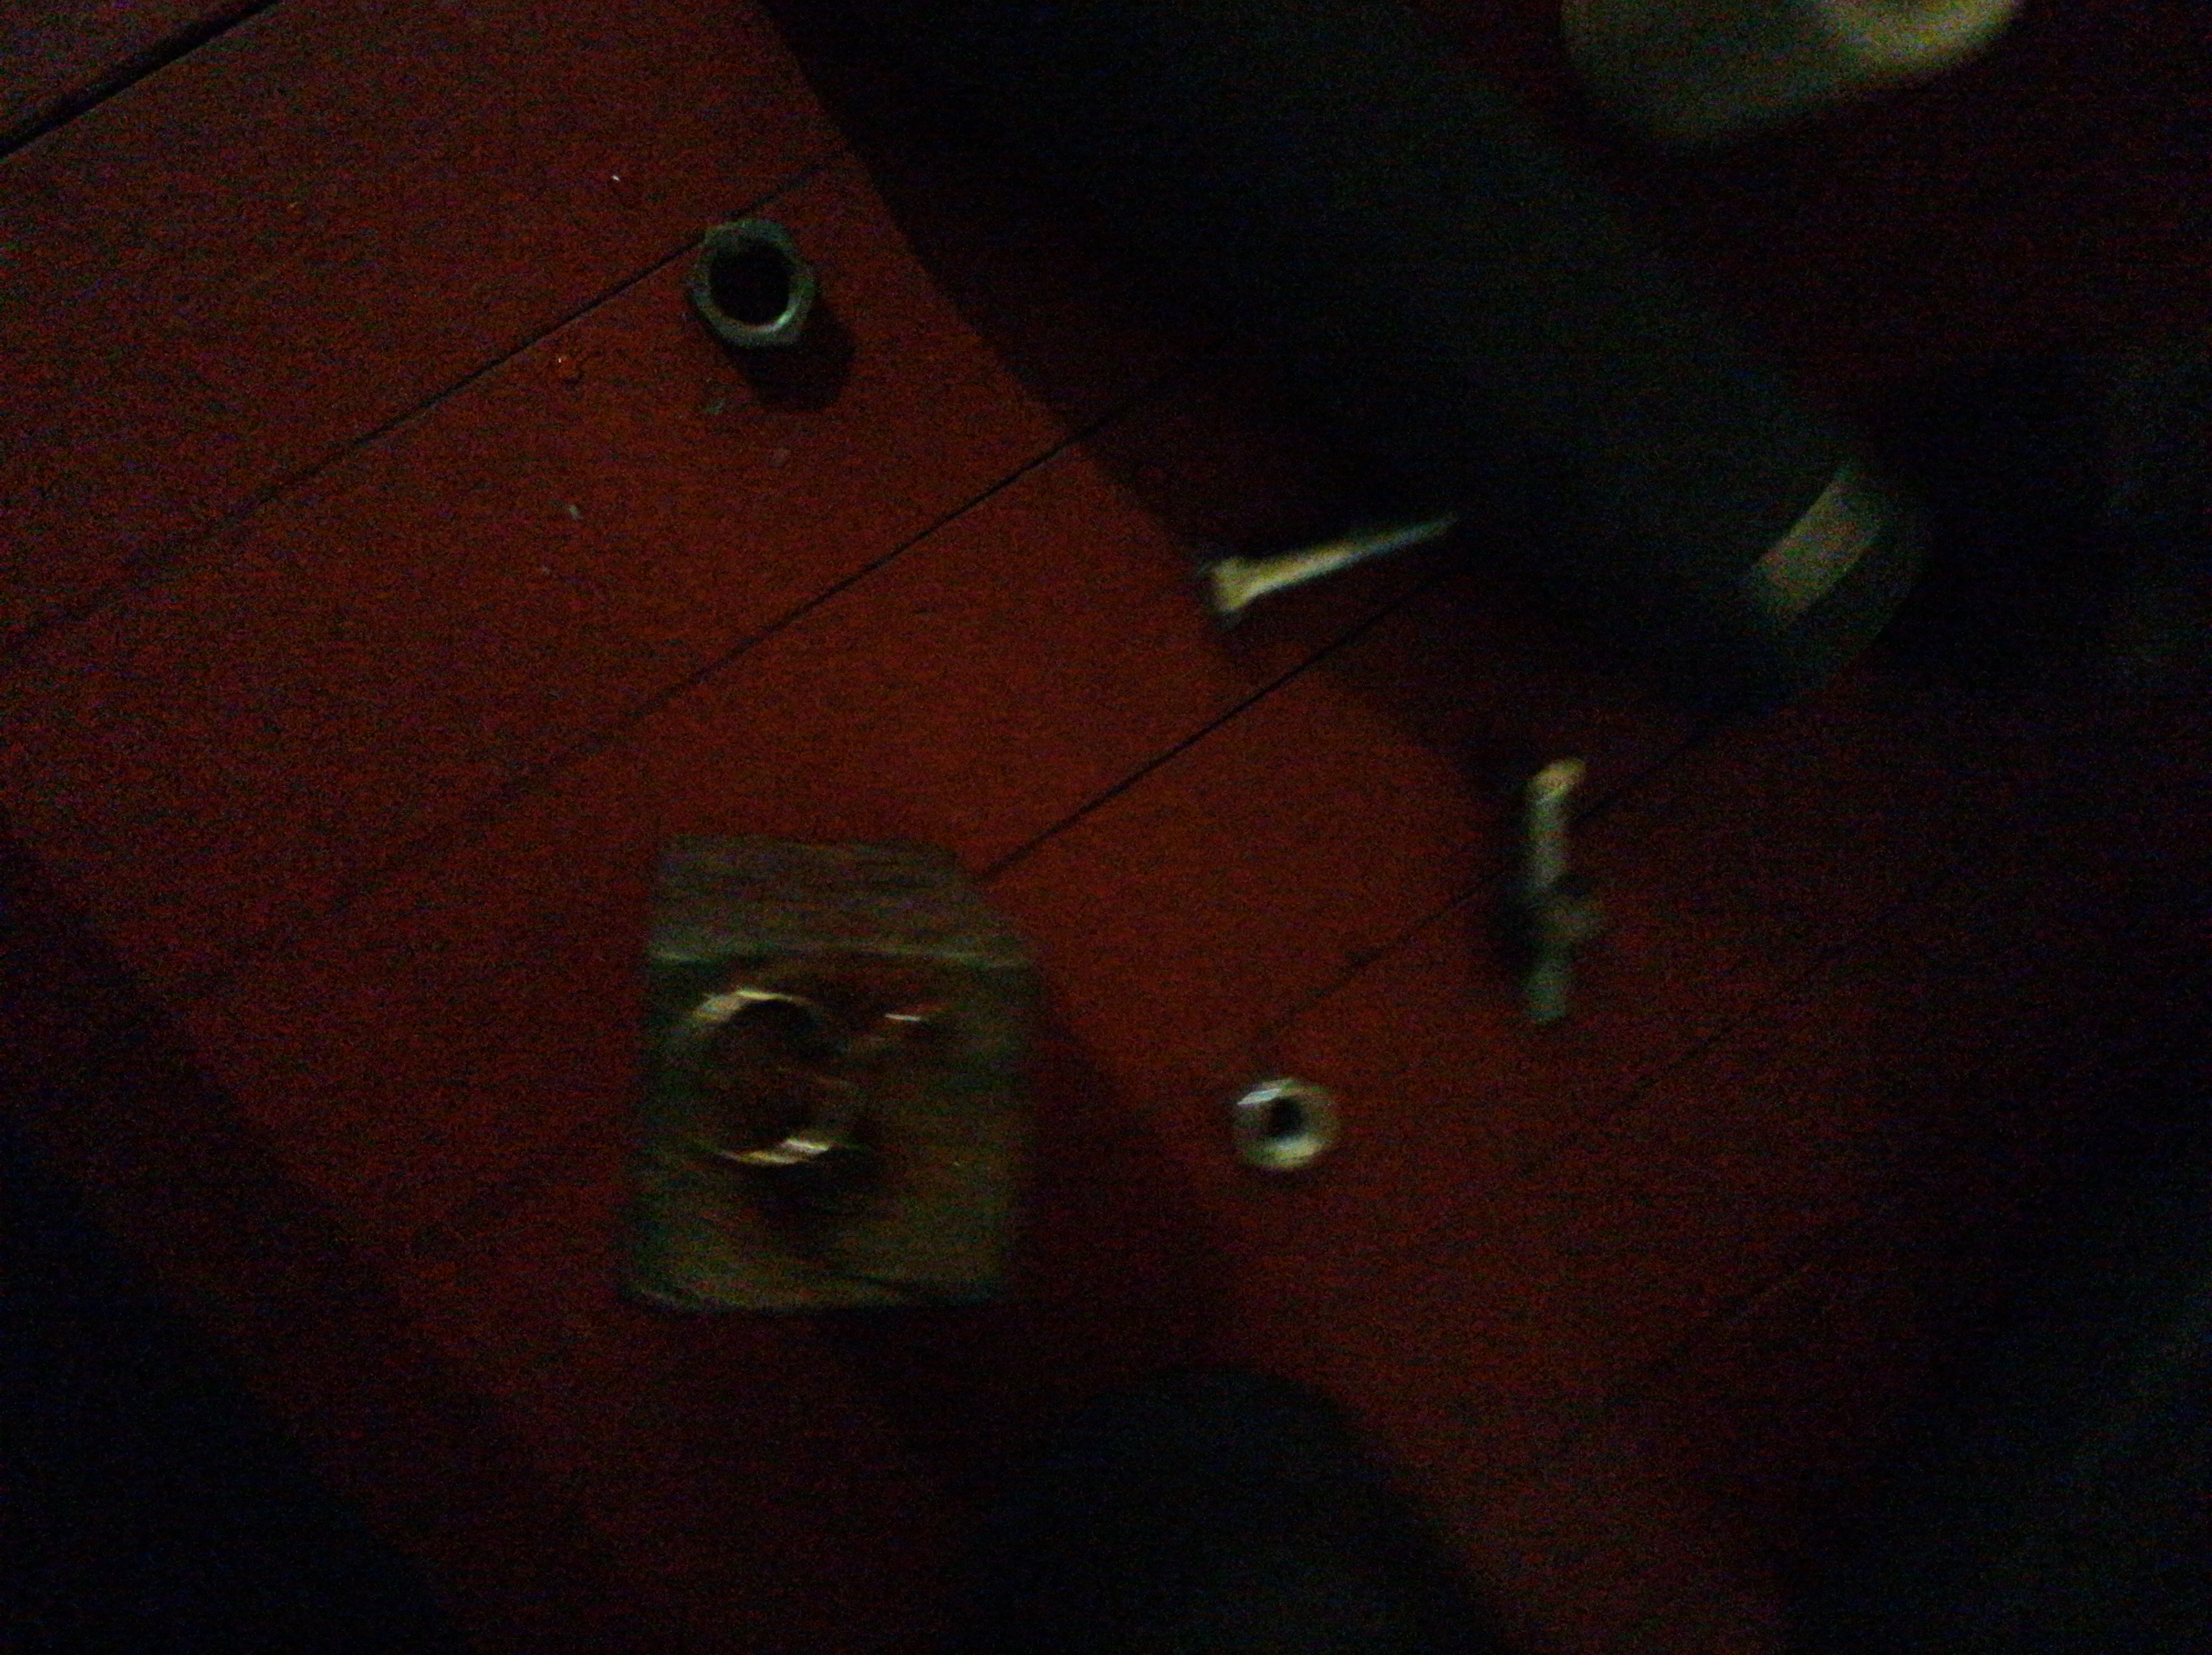bolt: (1199, 501, 1458, 631), (1496, 742, 1595, 1029)
lead_block: (617, 826, 1044, 1326)
nut: (683, 217, 825, 351), (1230, 1069, 1340, 1179), (1489, 880, 1613, 956)
pipe: (1058, 0, 1924, 721)
